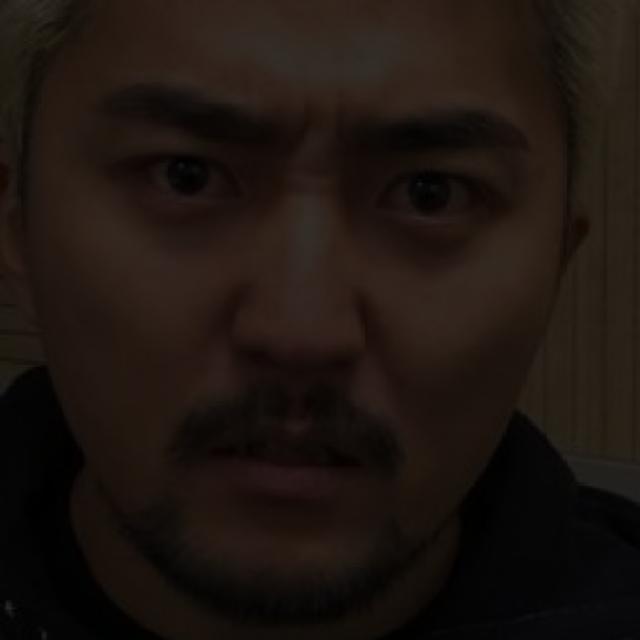angry: (32, 33, 568, 558)
